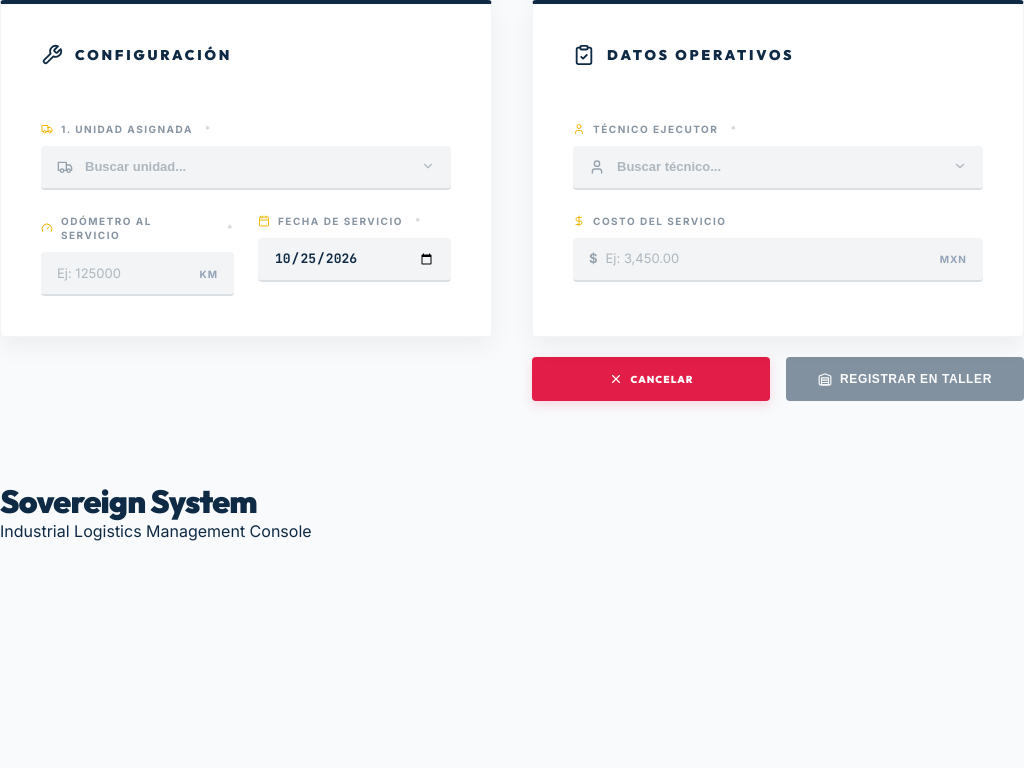
Test: MaintenanceRegistrationForm › Should expose exactly three UPA status options and none of the legacy ones
Click the button "Buscar unidad...": coordinates (136, 167) [41,146,451,190]
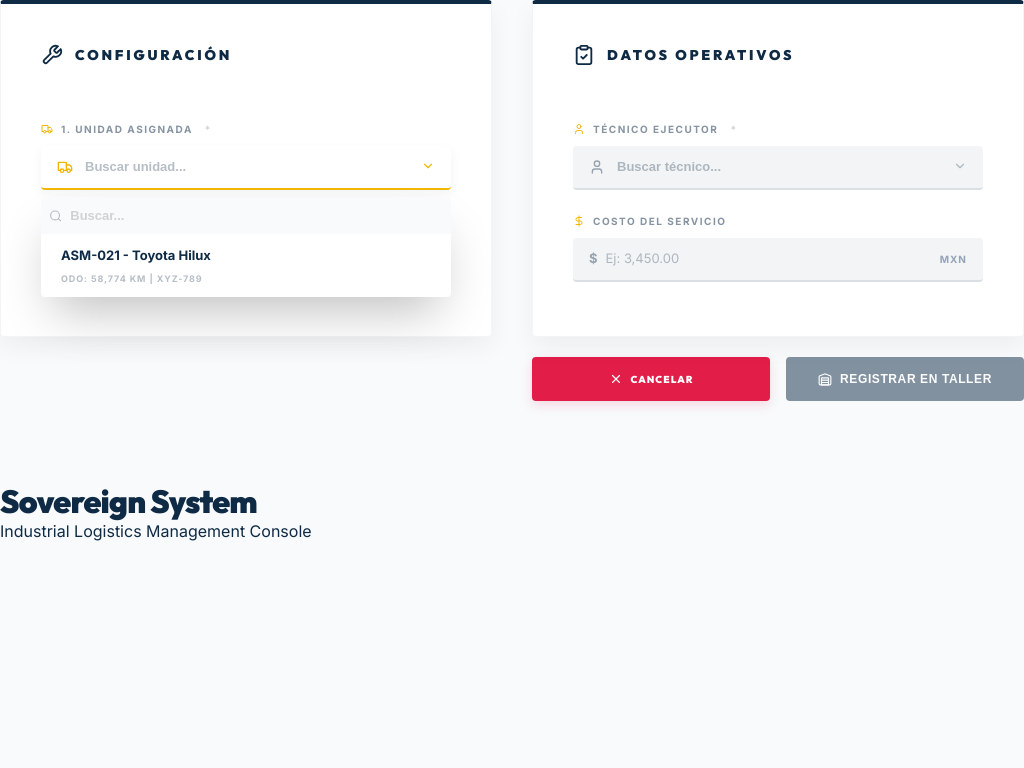
Click the text "ASM-021 - Toyota Hilux": coordinates (136, 255) [61,246,211,265]
(page scrolled)
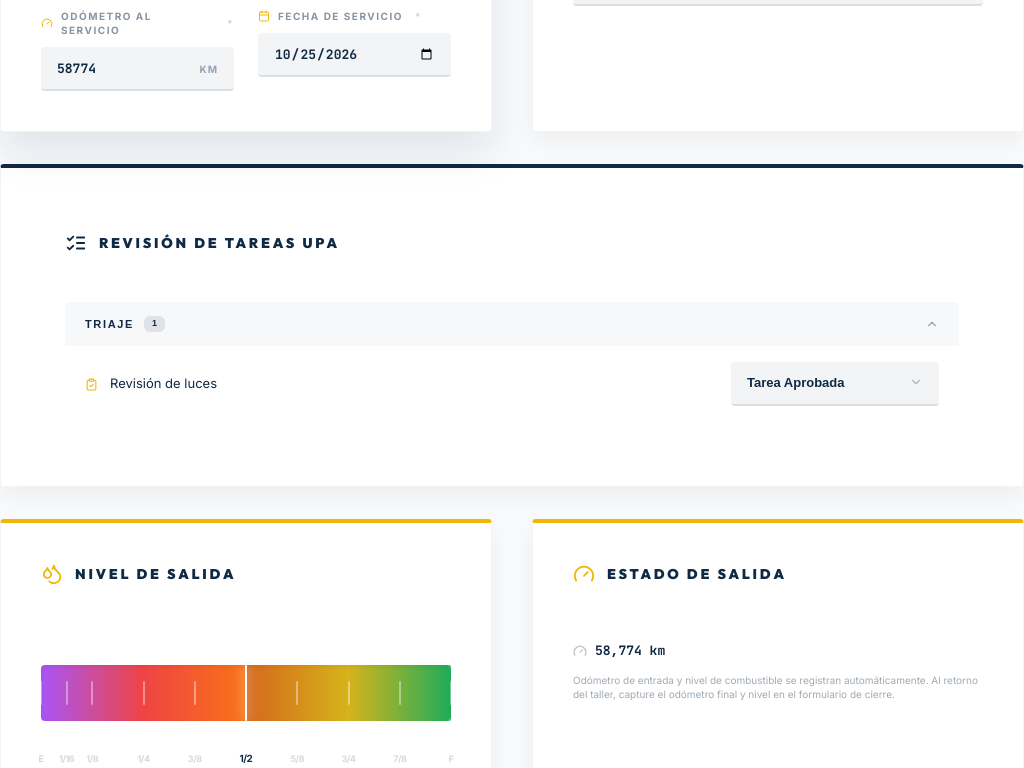
Expected: the text "Revisión de luces" is shown, [110,375,217,391]
Click the button "Tarea Aprobada": coordinates (835, 384) [731,362,939,406]
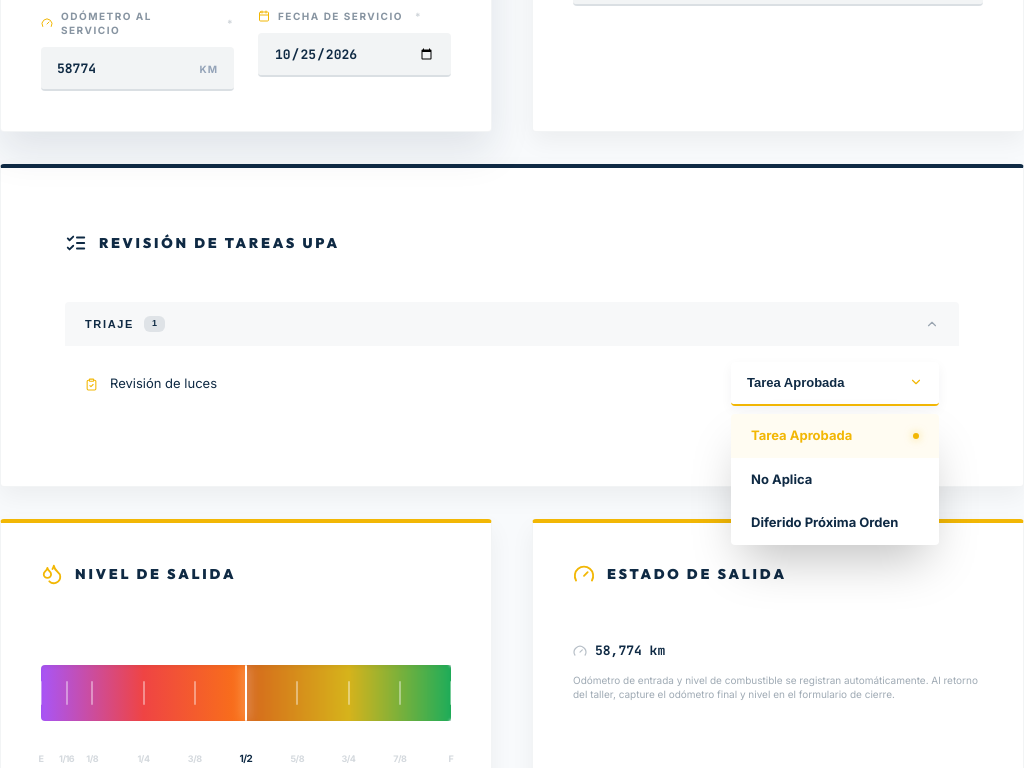
Expected: the text "No Aplica" is shown, [751,470,812,489]
Expected: the text "Diferido Próxima Orden" is shown, [751,513,898,533]
